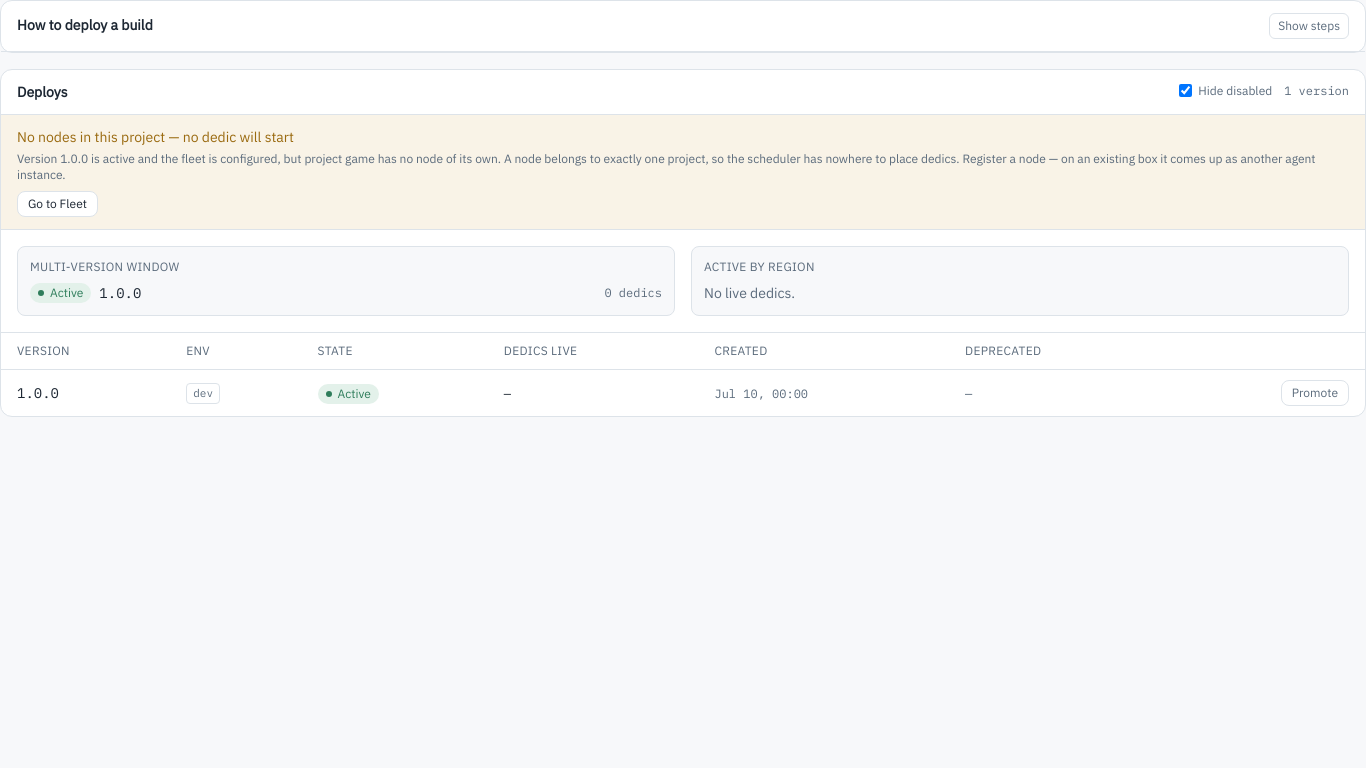
Scenario: PromoteDialog: 403 привязанного ключа — головная поверхность #1005 › НЕпривязанный ключ на 403 → текст ДЕЙСТВИЯ (не «нужен readonly»)
The image size is (1366, 768).
Click the button "Promote": (1315, 393) x1=1281 y1=380 x2=1349 y2=406
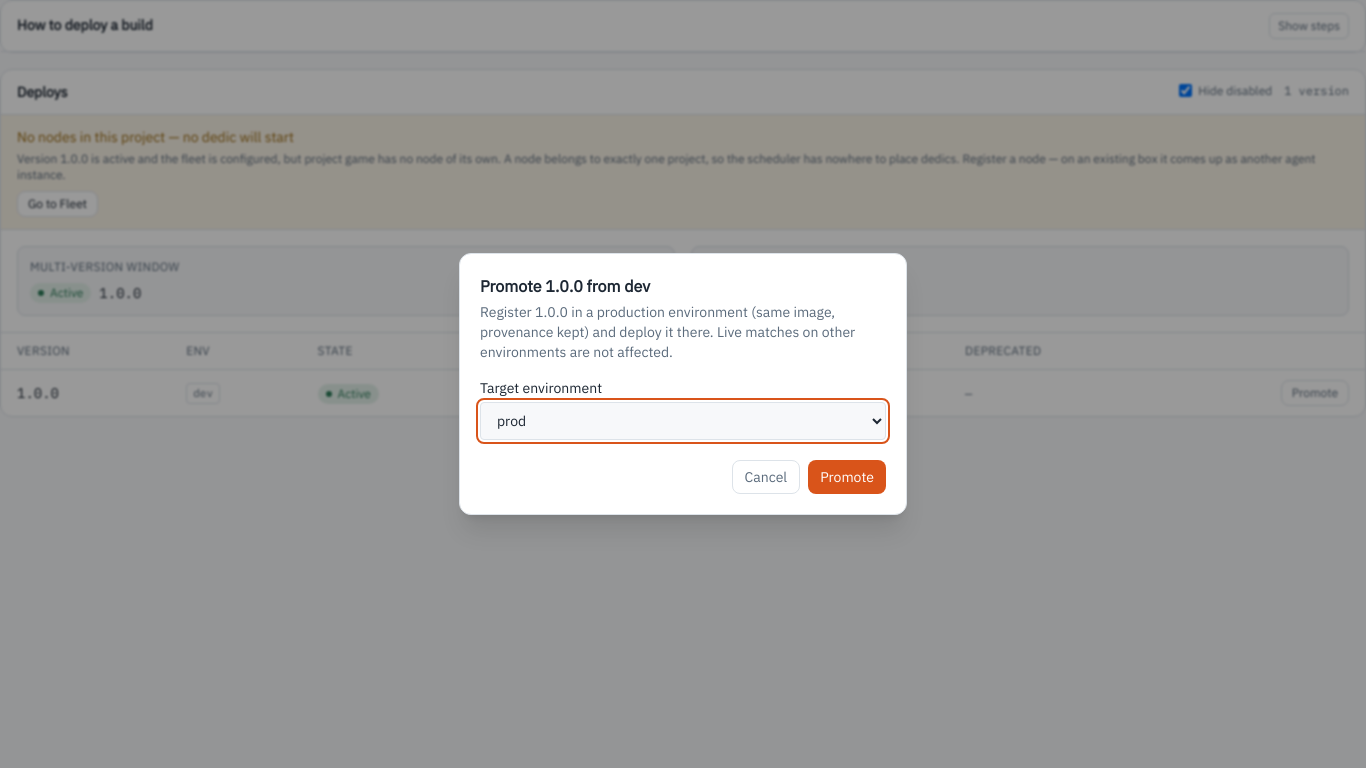
Click the button "Promote": (847, 477) x1=808 y1=460 x2=886 y2=494
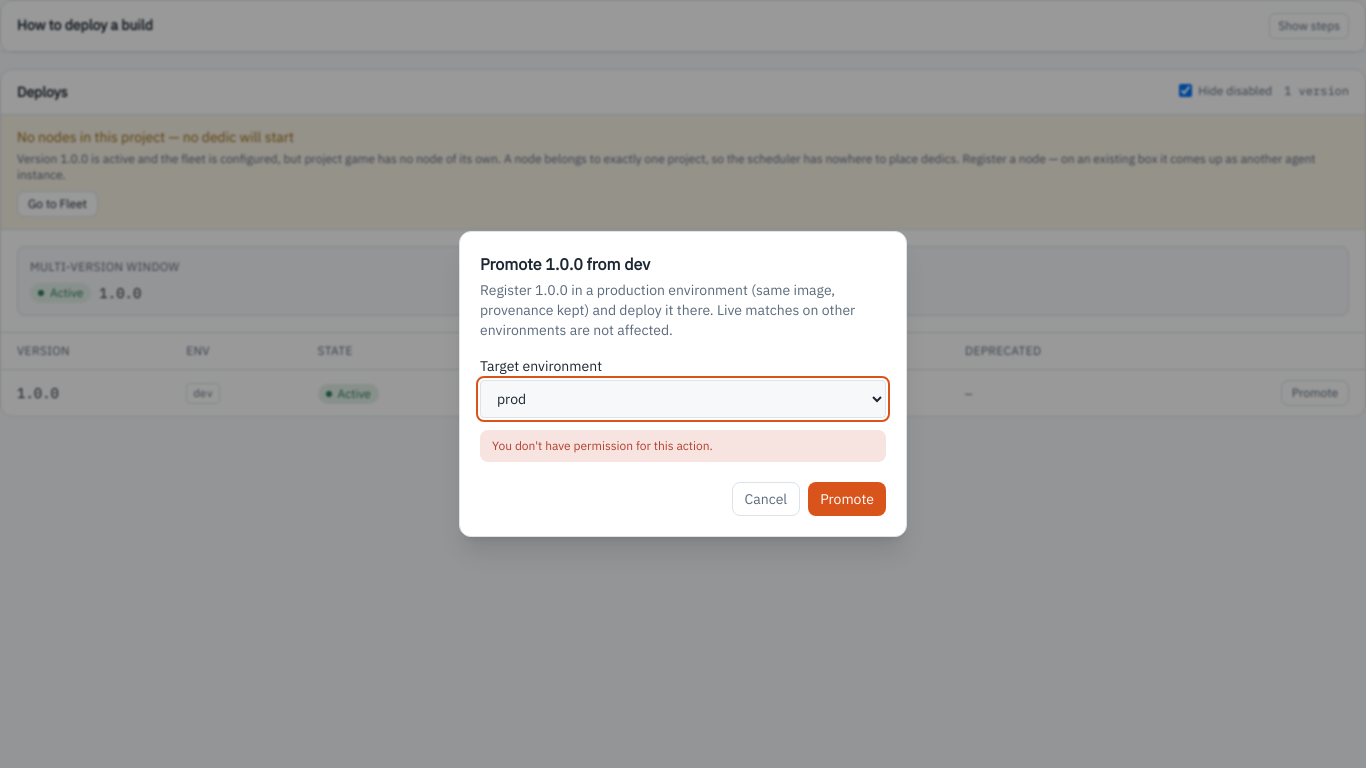
Now the text "You don't have permission for this action." is shown, box x1=480 y1=430 x2=886 y2=462
